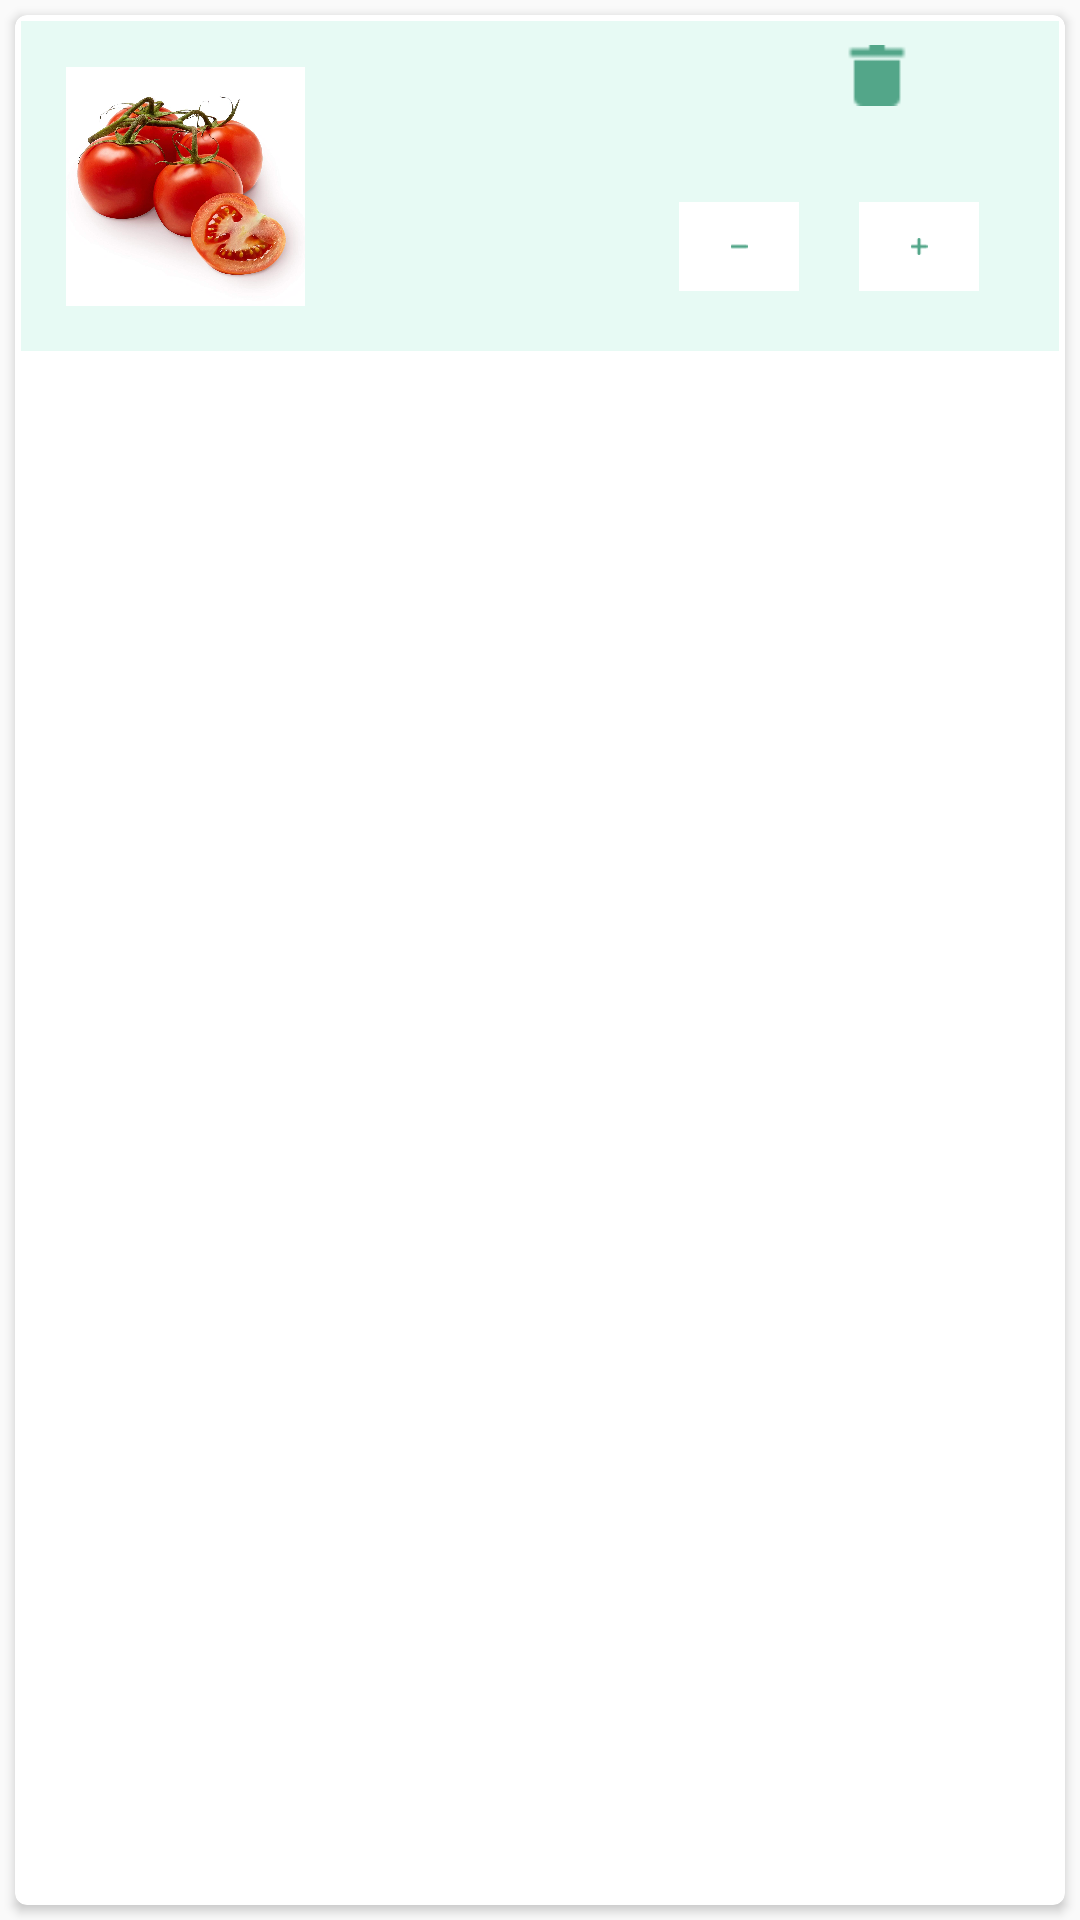

Icons on this 1080px×1920px Android screen, each with its box as (x1, y1, x2, y2):
tomato: (77, 96, 291, 278)
